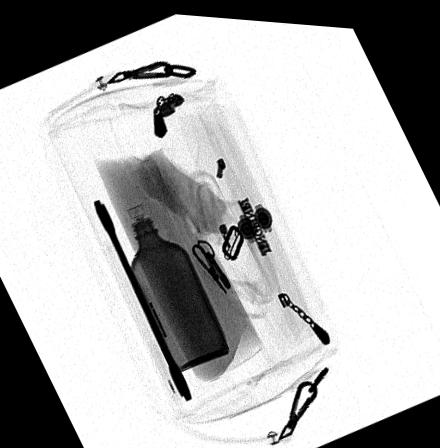Wrench: (89, 197, 194, 401)
